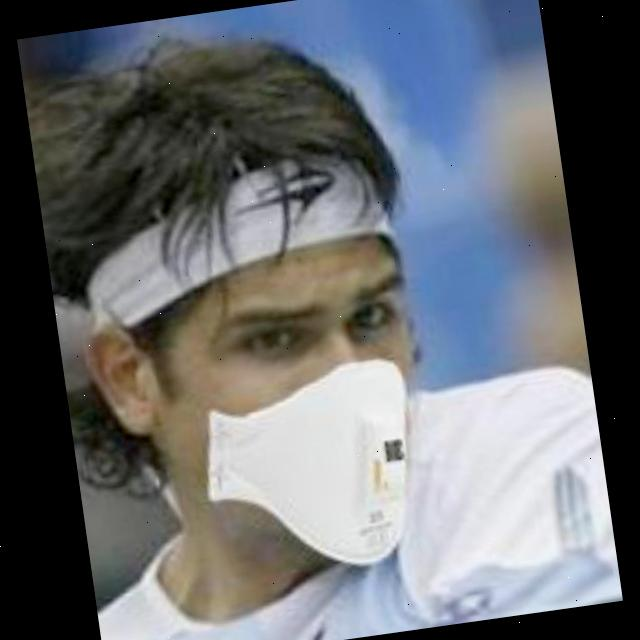suspicion: (78, 145, 460, 594)
